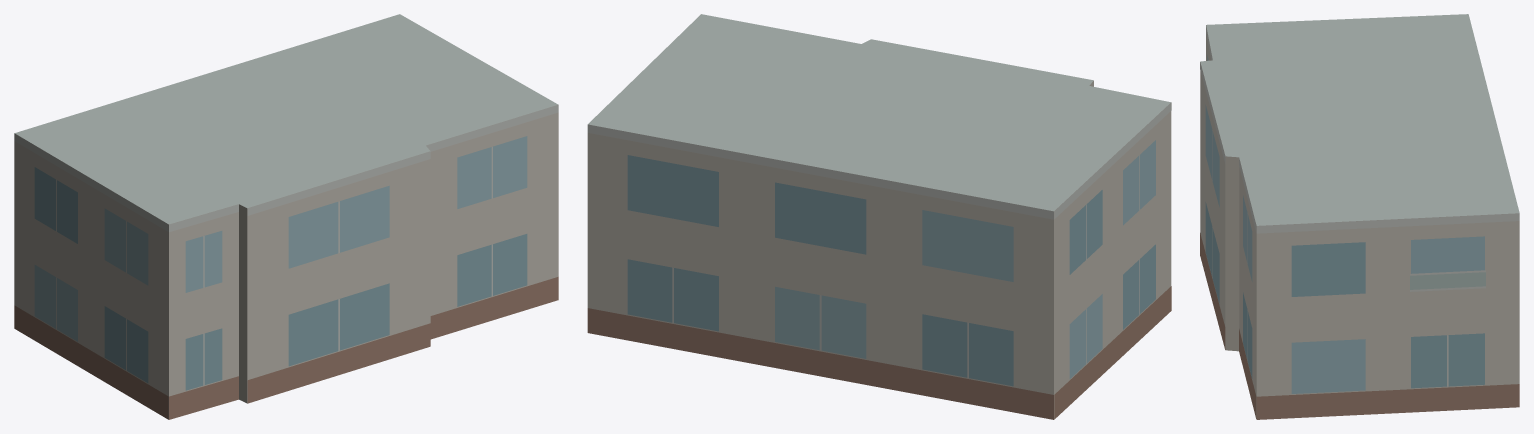
Rendered from survey-upis-32764418.glb.
3 renders of one model, left to right at view 1: azimuth 30°, elevation 25°; view 2: azimuth 150°, elevation 25°; view 3: azimuth 270°, elevation 25°, orthographic. The views are drawn at different scales.
Parts seen in each view (by area): view 1: survey-upis-32764418.tmp; view 2: survey-upis-32764418.tmp; view 3: survey-upis-32764418.tmp.
Boxes of the visible parts, x1,y1,x2,y2 form: survey-upis-32764418.tmp: (14, 14, 558, 419); survey-upis-32764418.tmp: (587, 14, 1171, 419); survey-upis-32764418.tmp: (1200, 14, 1519, 419).
Size of the model in its own units: 14.3 by 6.1 by 9.12.
